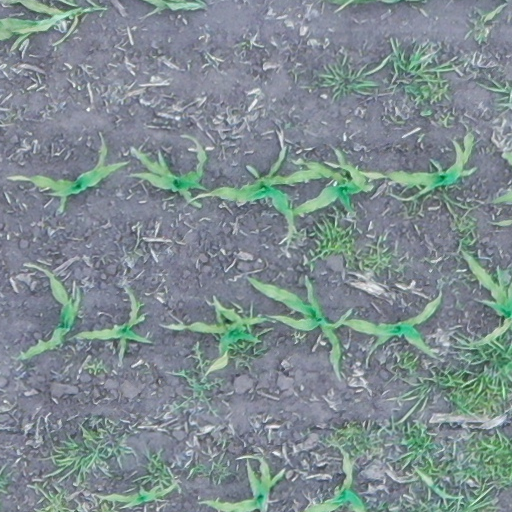planta: (245, 274, 443, 375), (204, 143, 325, 243), (291, 148, 386, 219), (186, 297, 271, 374), (15, 268, 83, 363), (386, 132, 478, 197), (28, 159, 126, 215), (132, 145, 209, 211), (96, 477, 180, 511), (72, 320, 151, 355), (126, 293, 147, 326), (497, 335, 505, 343)
